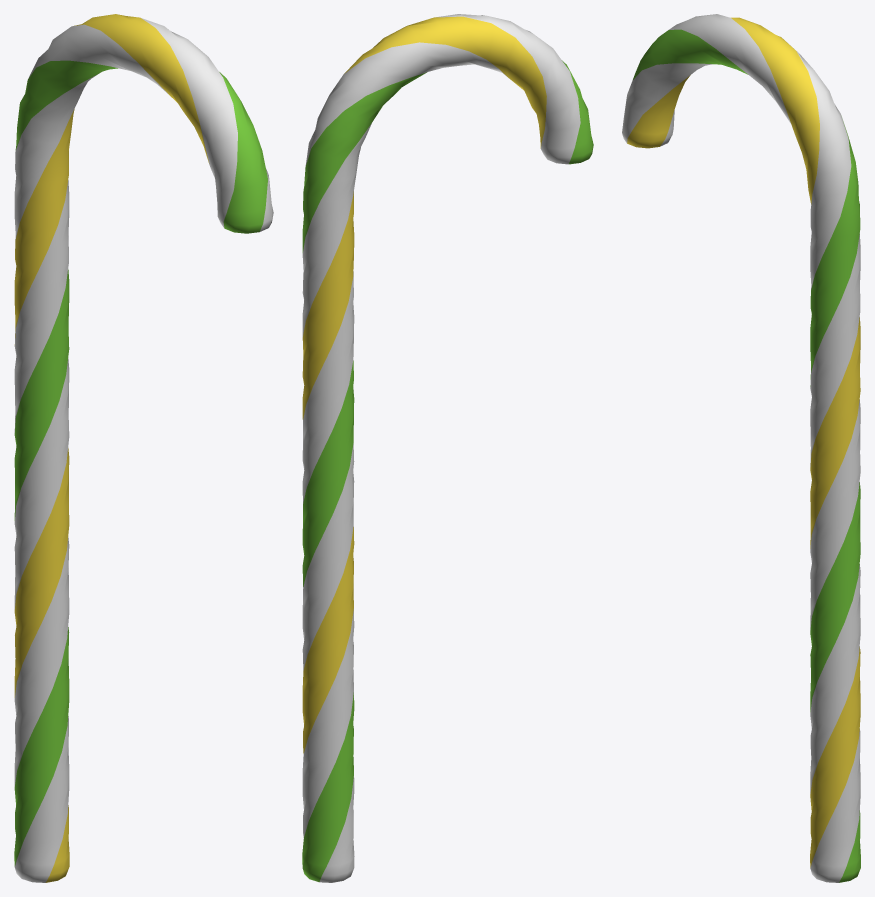
Rendered from Polkagris_7.glb.
3 views of the same model, side by side, from view 1: azimuth 90°, elevation 25°; view 2: azimuth 150°, elevation 25°; view 3: azimuth 270°, elevation 25° (orthographic). The views are drawn at different scales.
Visible parts, largest first — view 1: Polkagrisar.007; view 2: Polkagrisar.007; view 3: Polkagrisar.007.
Part boxes in pixels (bbox=[...]): Polkagrisar.007: bbox=[14, 14, 273, 882]; Polkagrisar.007: bbox=[302, 14, 593, 882]; Polkagrisar.007: bbox=[622, 14, 860, 882].
Size of the model in its own units: 0.5821 by 2.48 by 0.6557.
